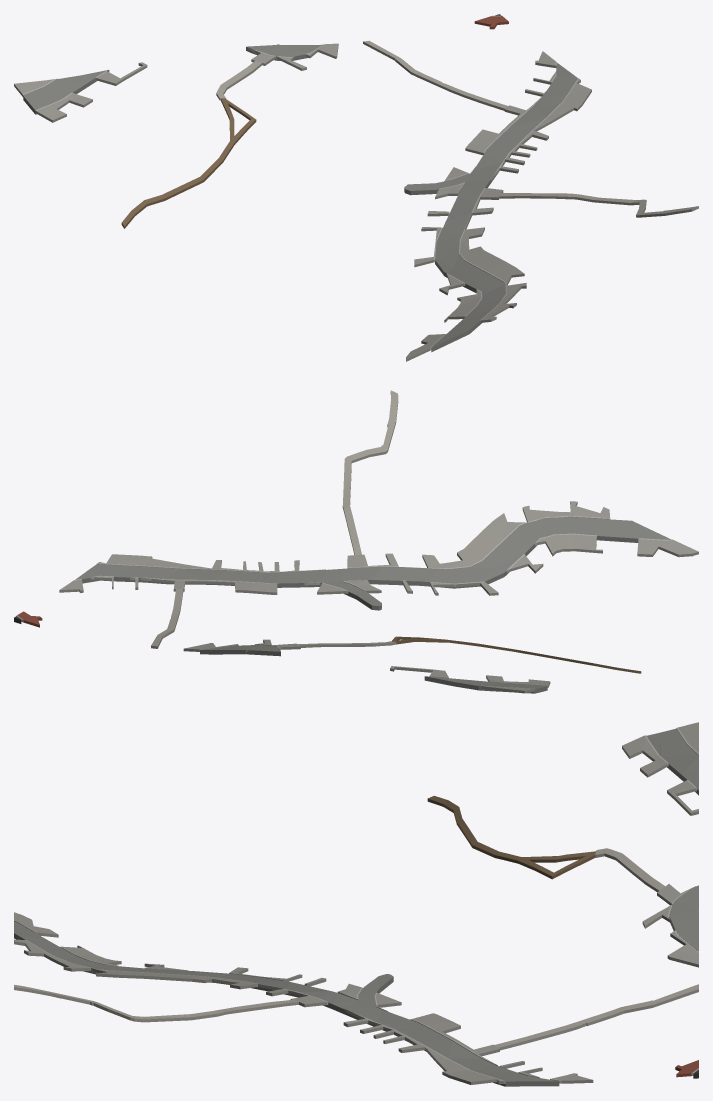
The picture shows the model from 3 angles, top to bottom: view 1: azimuth 30°, elevation 25°; view 2: azimuth 150°, elevation 25°; view 3: azimuth 270°, elevation 25°; orthographic projection. The views are drawn at different scales.
Bounding box in the file's own units: 147 × 29.51 × 146.
